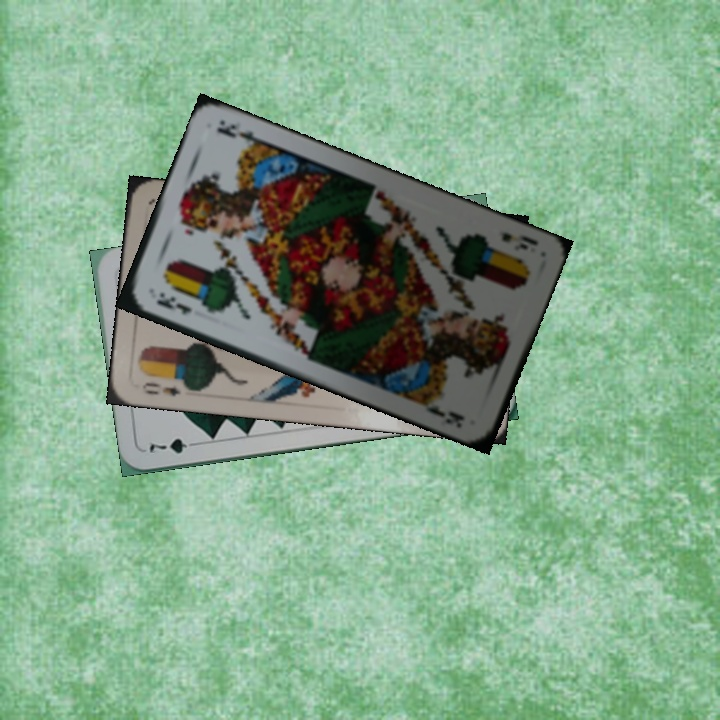EK: (152, 287, 195, 318), (494, 227, 541, 253)
EO: (138, 374, 192, 399)
G7: (145, 434, 202, 456)
